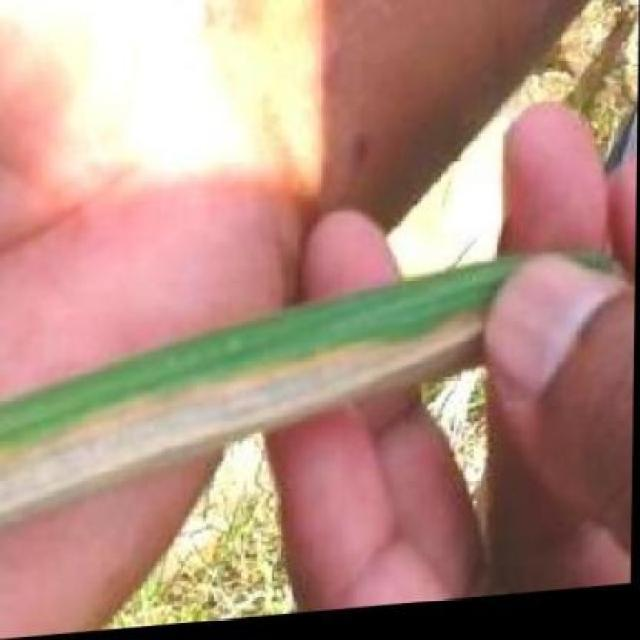Brown_Spot: (49, 319, 536, 453)
